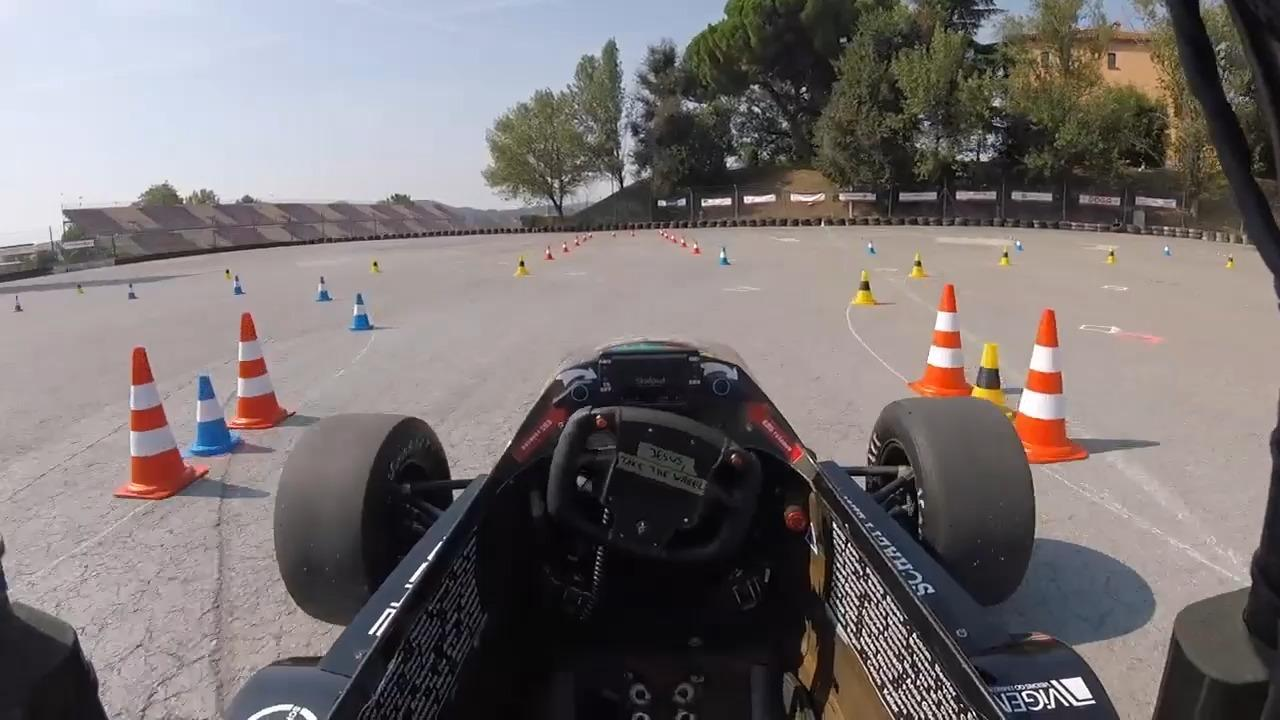blue_cone: (185, 373, 245, 460), (349, 290, 374, 334), (315, 275, 333, 302), (715, 246, 734, 267), (231, 275, 247, 296), (125, 281, 138, 301), (865, 239, 877, 256)
large_orange_cone: (109, 346, 204, 500), (1003, 304, 1091, 465), (222, 309, 295, 430), (905, 283, 978, 397)
orange_cone: (543, 244, 556, 261), (690, 240, 702, 255), (560, 240, 571, 254), (679, 235, 688, 248)
yellow_cone: (964, 343, 1015, 427), (851, 270, 879, 307), (907, 251, 928, 280), (513, 253, 531, 278), (997, 245, 1012, 266), (367, 257, 384, 275), (1103, 246, 1118, 265)
